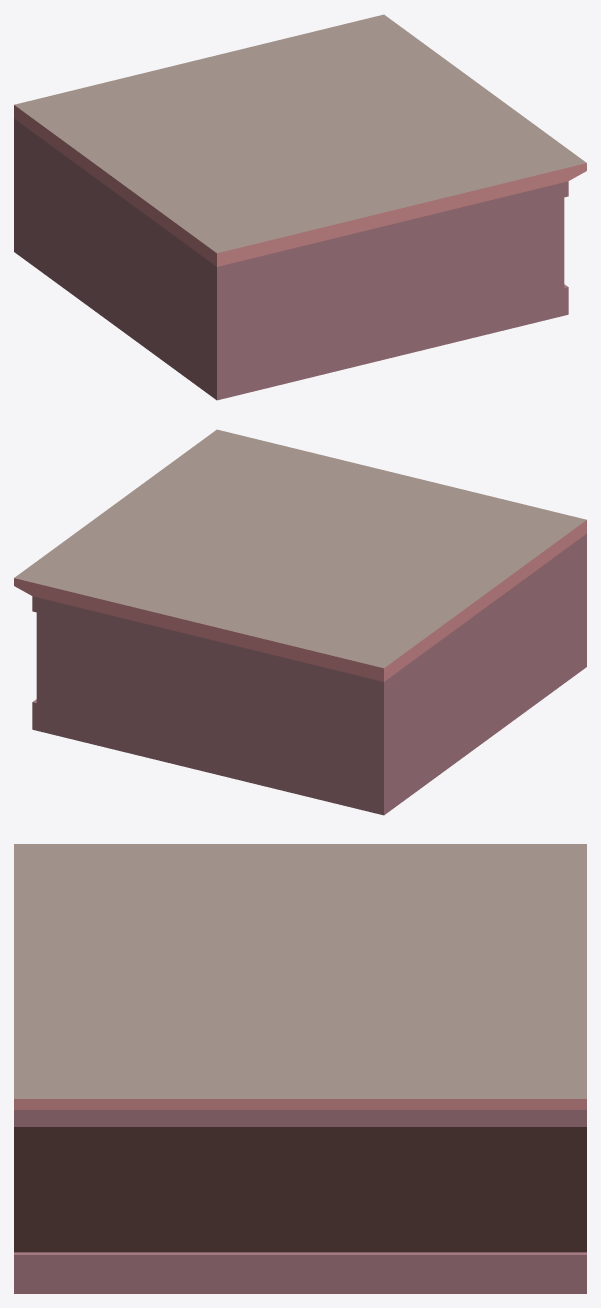
The model's file is Res01_KitchenCabinate4.fbx.
The picture shows the model from 3 angles, top to bottom: view 1: azimuth 30°, elevation 25°; view 2: azimuth 150°, elevation 25°; view 3: azimuth 270°, elevation 25°; orthographic projection. The views are drawn at different scales.
Visible parts, largest first — view 1: Res01_KitchenCabinate4; view 2: Res01_KitchenCabinate4; view 3: Res01_KitchenCabinate4.
Boxes of the visible parts, <box> form: Res01_KitchenCabinate4: <box>14,14,586,400</box>; Res01_KitchenCabinate4: <box>14,429,586,815</box>; Res01_KitchenCabinate4: <box>14,844,586,1293</box>.
Size of the model in its own units: 211 by 80 by 200.
